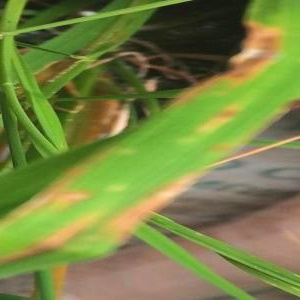Brown_Spot: (99, 160, 207, 252), (196, 14, 288, 84), (0, 165, 96, 223), (184, 99, 245, 139)
